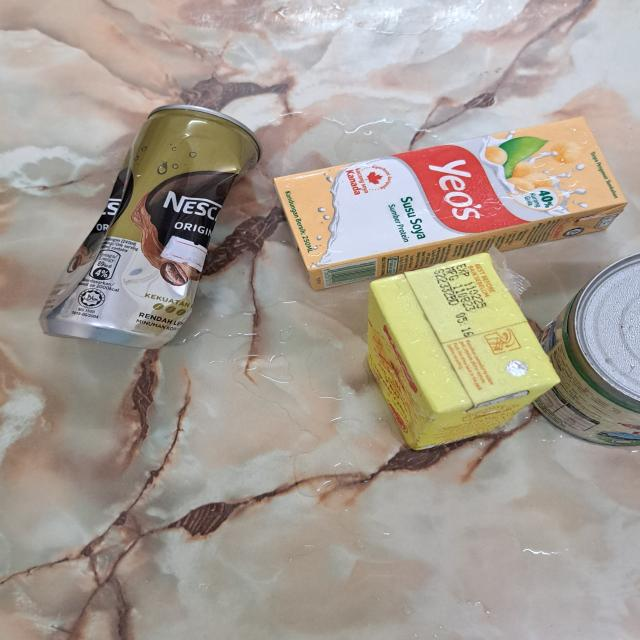can: (38, 99, 265, 351), (532, 253, 640, 450)
drink carton: (275, 116, 629, 292), (364, 253, 560, 452)
